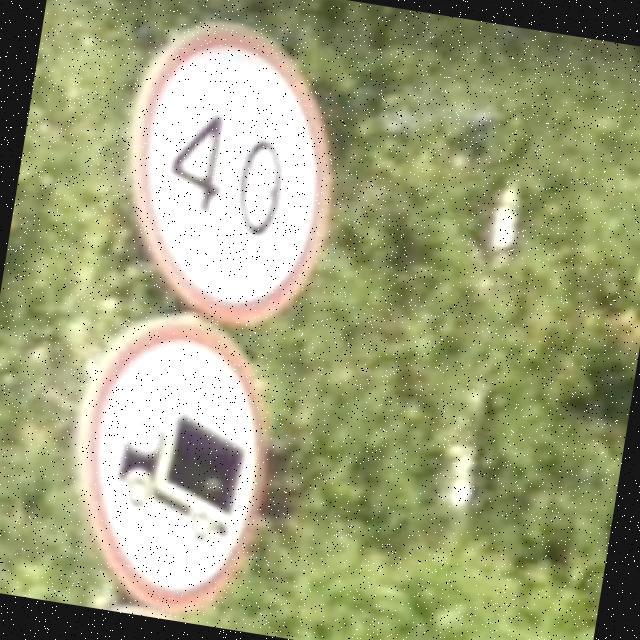Ograniczenie predkosci do 40: (101, 8, 356, 336)
